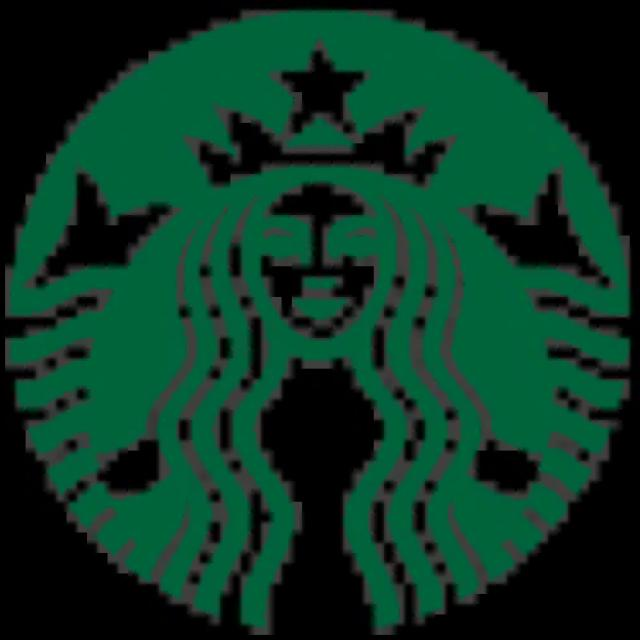starbucks: (6, 5, 623, 635)
